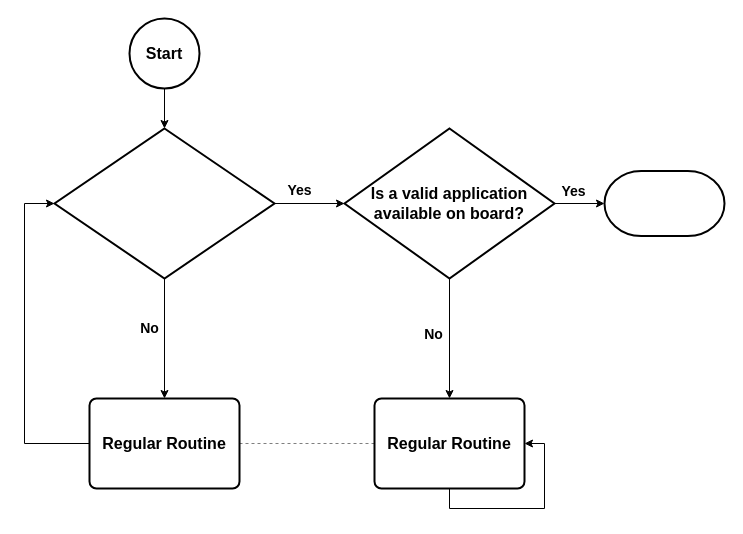
This 743x534 diagram has some shape labels left out. Here are the shapes that lost their labels. From the top down, the centre of each, then its label:
At pixel 164 203: "Has timeout passed?".
At pixel 664 203: "Start the application".
